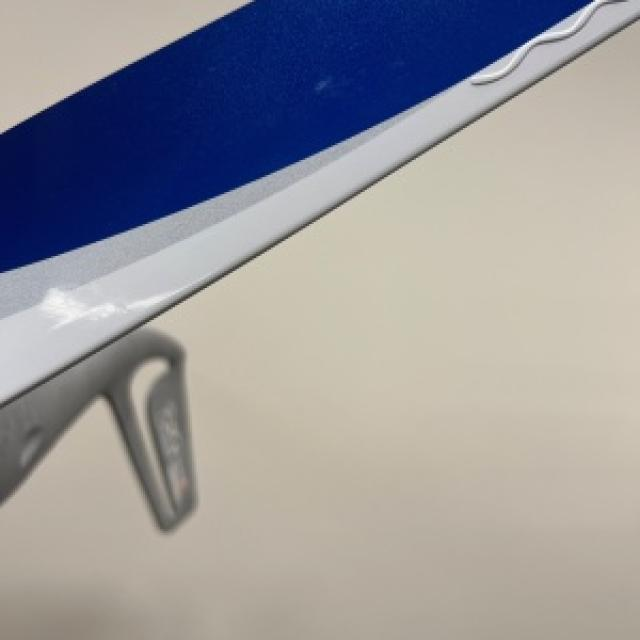healthy: (0, 0, 638, 634)
